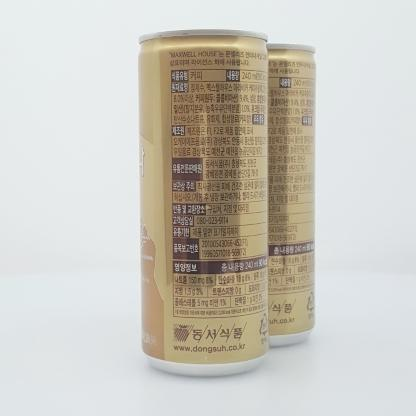-----------------240ML: (137, 28, 269, 377), (225, 42, 317, 348)
